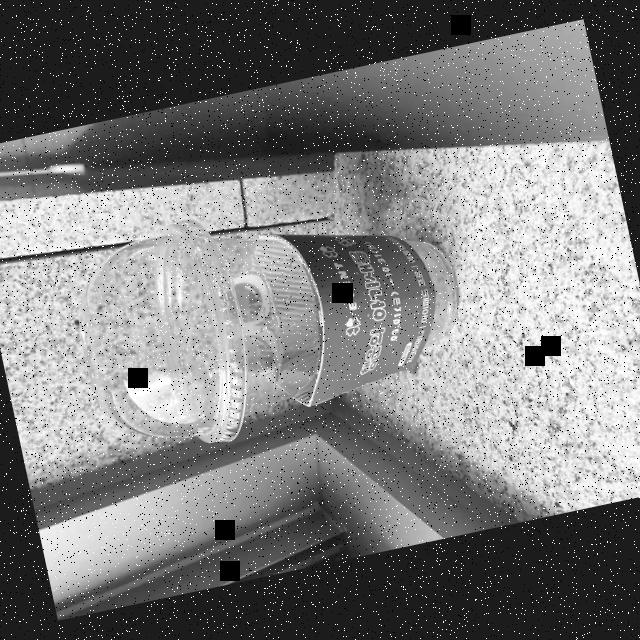plastic_cup: (58, 168, 481, 470)
plastic_cup_lid: (58, 208, 266, 473)
